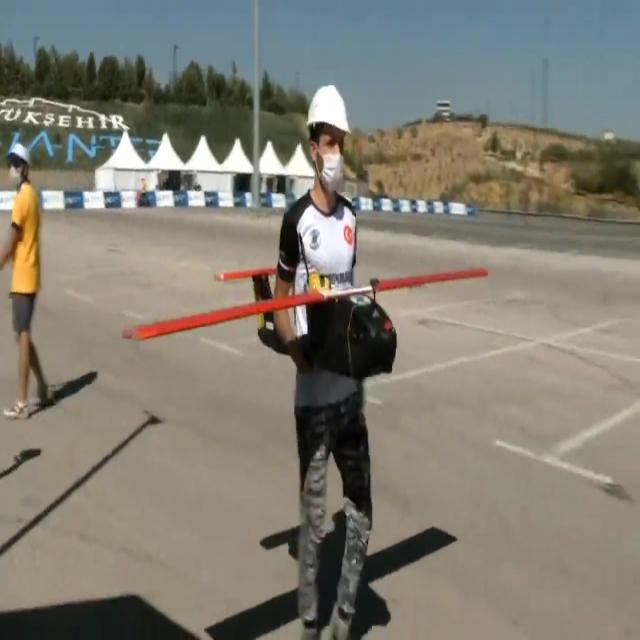iha: (121, 300, 489, 351)
